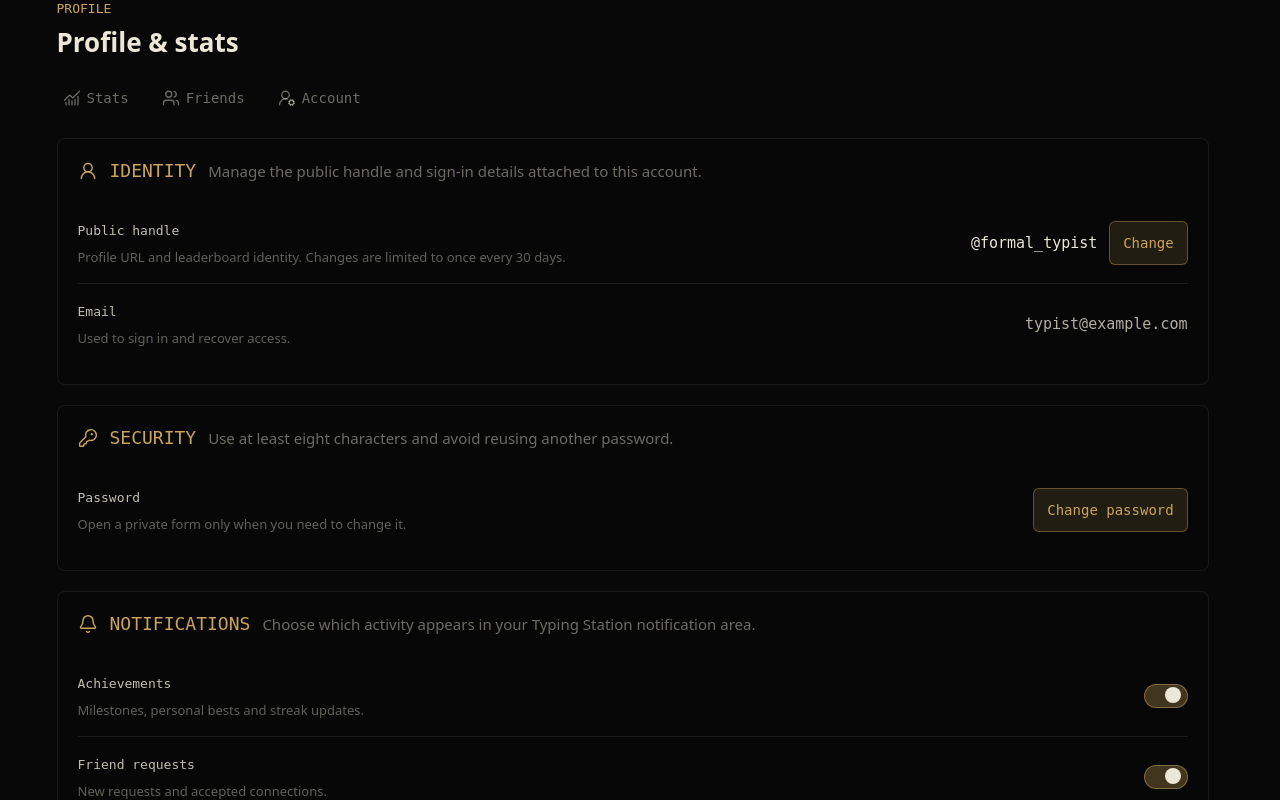
Profile account page › keeps server errors visible inside the open account dialog
Expected: the text "@formal_typist" is shown, 971,231 -> 1097,255
Step 1. Click the button with aria-label "Change public handle" → (1148, 243), box 1109,221 -> 1188,265
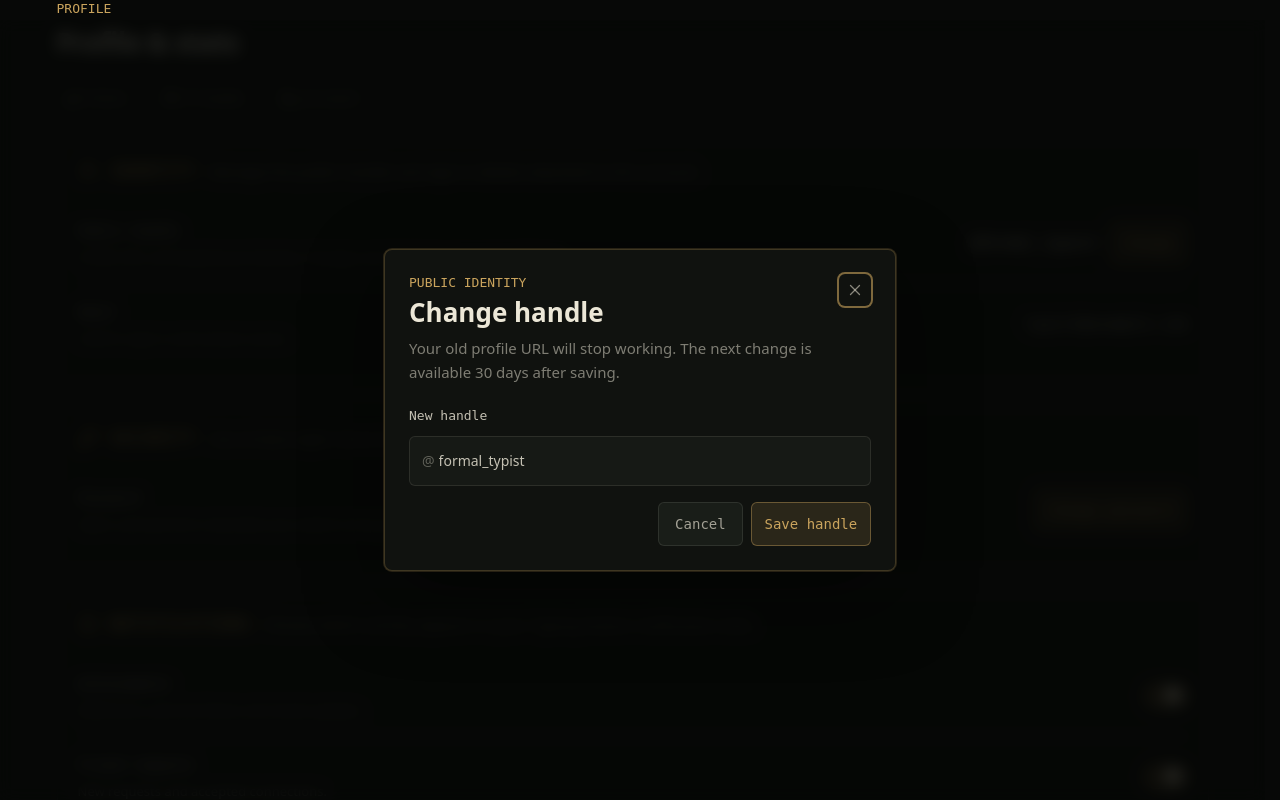
Step 2. Replace the text in the field labelled "New handle" with "another_handle" → (646, 461), box 435,437 -> 858,485
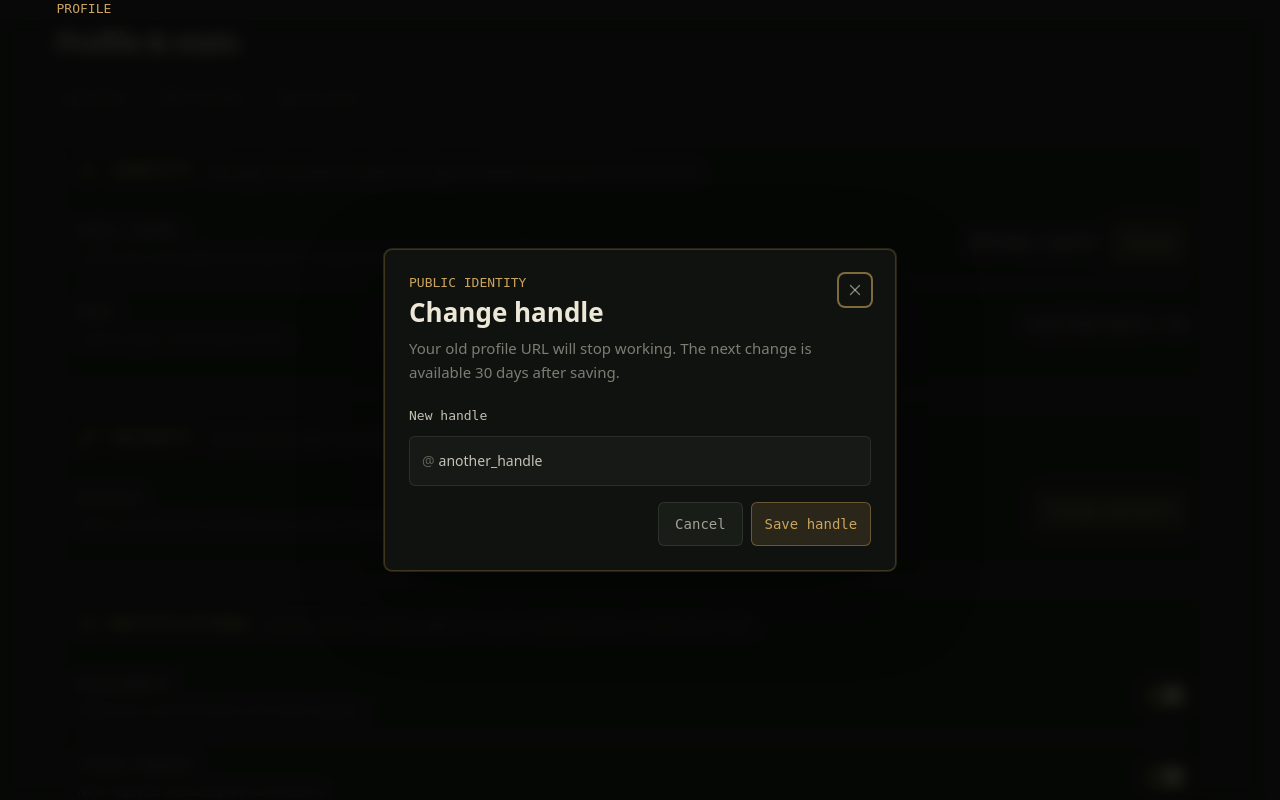
Step 3. Click the button "Save handle" → (811, 524), box 751,502 -> 871,546
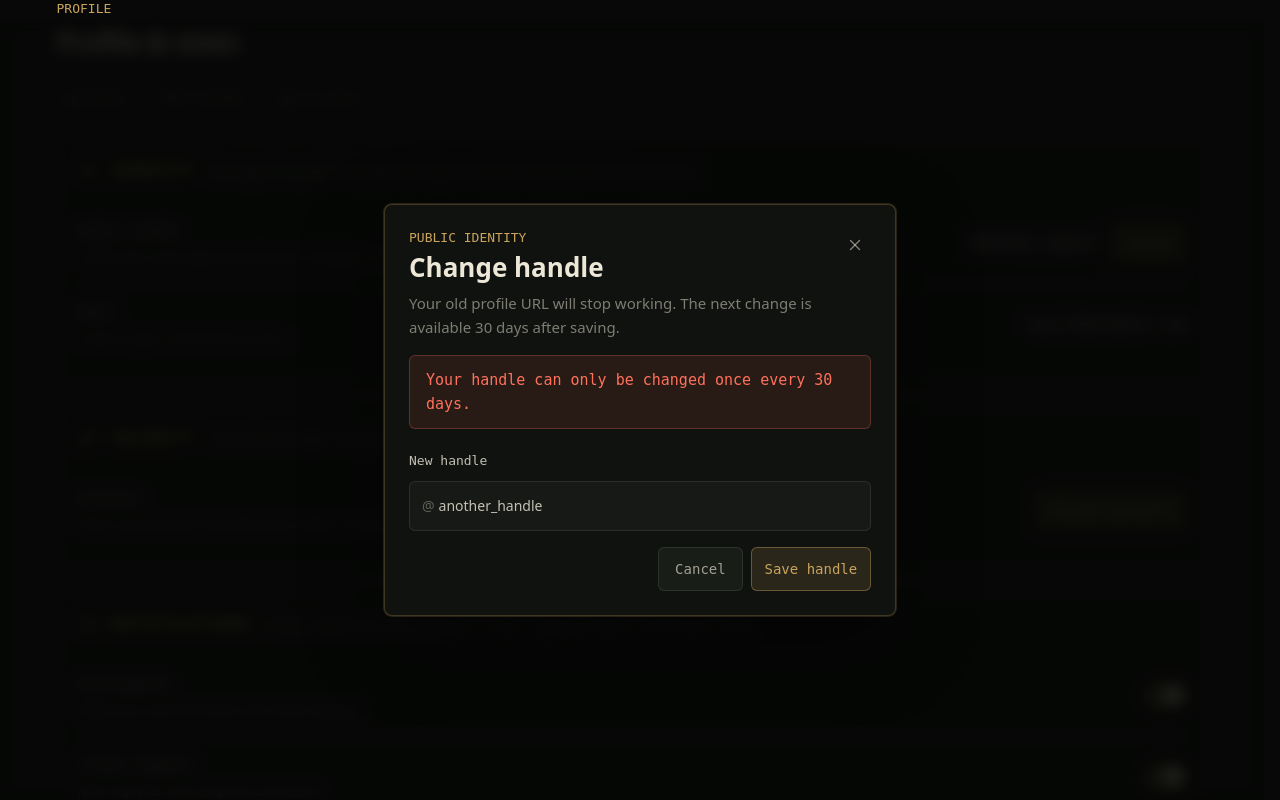
Now the dialog "Change handle" is shown, box 384,204 -> 896,616
Now the message "Your handle can only be changed once every 30 days." is shown, box 409,355 -> 871,429
